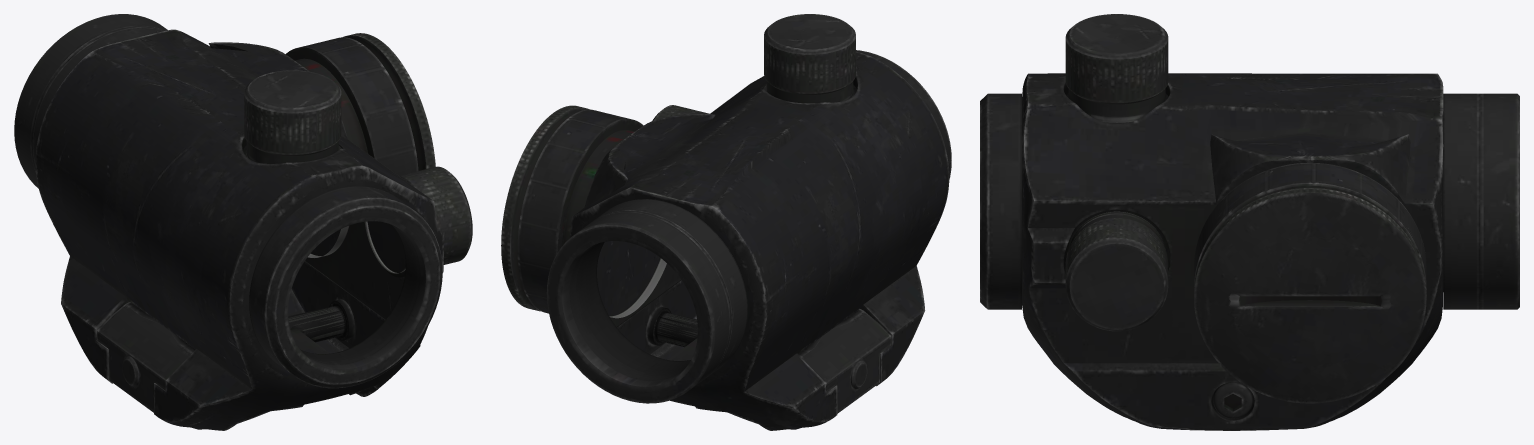
Rendered from VectorReflexOptic.obj.
3 views of the same model, side by side, from view 1: azimuth 30°, elevation 25°; view 2: azimuth 150°, elevation 25°; view 3: azimuth 270°, elevation 25° (orthographic). The views are drawn at different scales.
Parts seen in each view (by area): view 1: VectorReflexOptic; view 2: VectorReflexOptic; view 3: VectorReflexOptic.
Part boxes in pixels (x1=…): VectorReflexOptic: x1=14, y1=14, x2=472, y2=430; VectorReflexOptic: x1=501, y1=14, x2=951, y2=430; VectorReflexOptic: x1=980, y1=14, x2=1519, y2=430.
Size of the model in its own units: 0.1294 by 0.1364 by 0.1938.
1 material, 1 textured.
